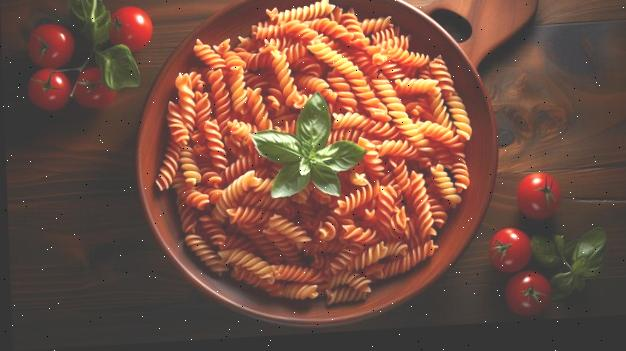pasta: (156, 0, 471, 302)
